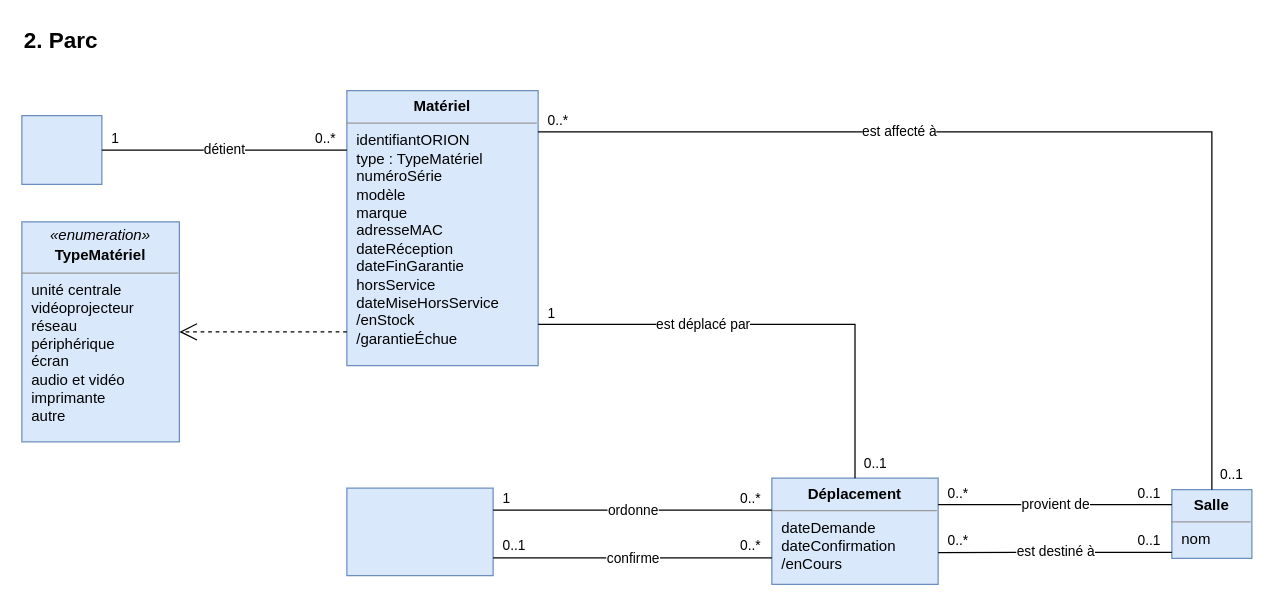
Some shapes in this 1274 by 606 pixel diagram are drawn without their labels. Each missing label, with the centre of its shape:
"Compte ORION nom profil" goes at pixel 419 531.
"École nom" goes at pixel 61 149.
